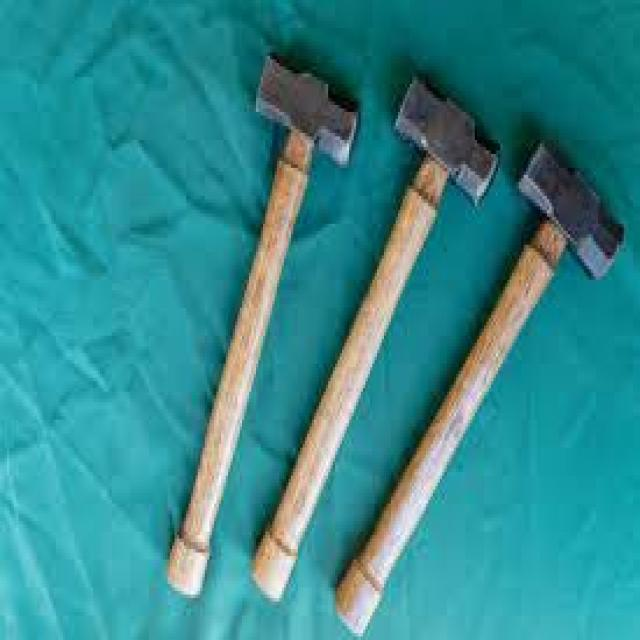hammer: (330, 136, 628, 640), (244, 70, 503, 608), (163, 46, 363, 602)
